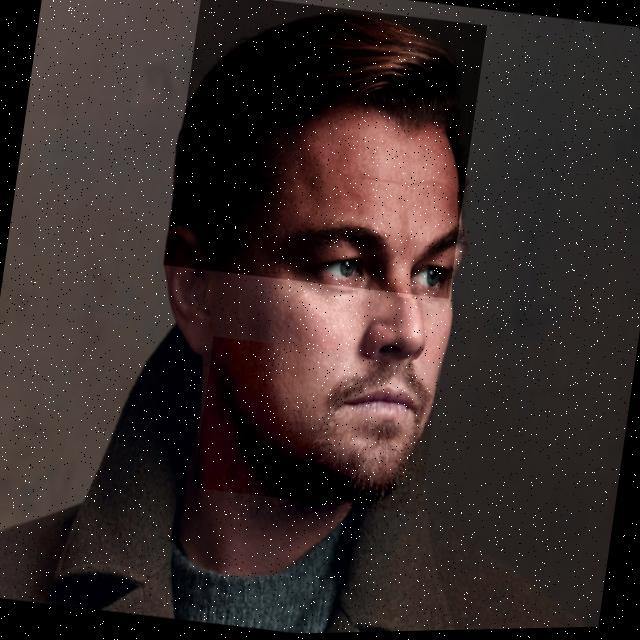beard: (208, 362, 436, 505)
hair: (171, 15, 463, 273)
